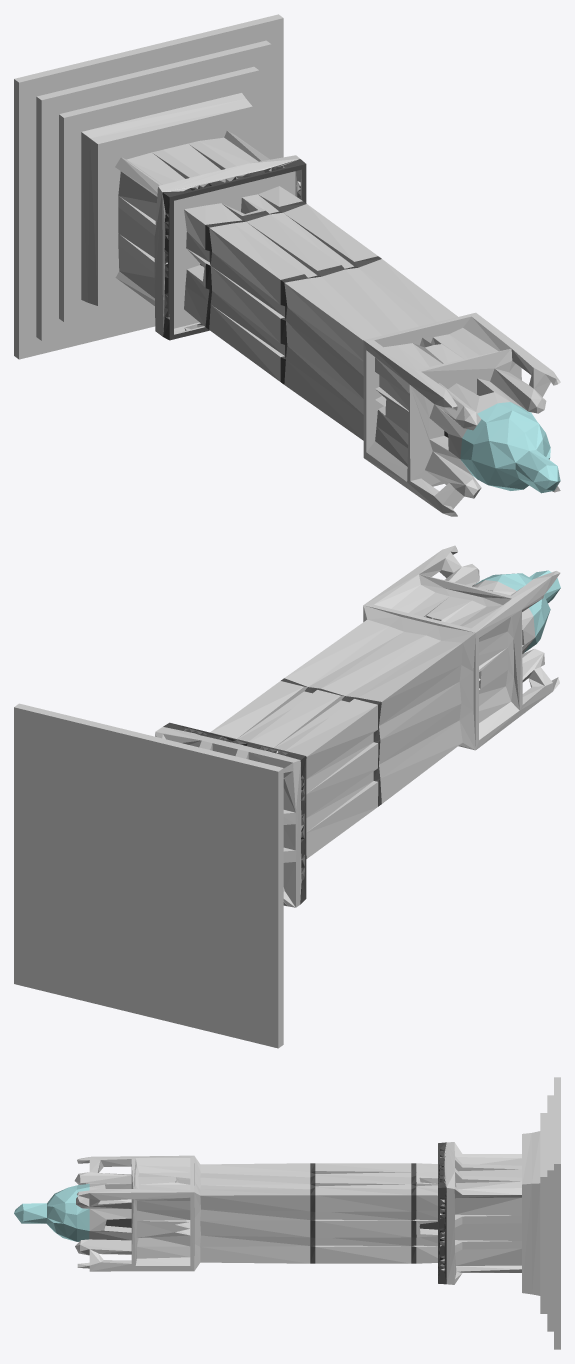
File: queensSmall.glb
3 views of the same model, one above another, from view 1: azimuth 30°, elevation 25°; view 2: azimuth 150°, elevation 25°; view 3: azimuth 270°, elevation 25° (orthographic). The views are drawn at different scales.
Parts seen in each view (by area): view 1: building.008; view 2: building.008; view 3: building.008.
Part boxes in pixels (x1,y1,x2,y2): building.008: [14, 14, 560, 516]; building.008: [14, 545, 560, 1048]; building.008: [14, 1077, 560, 1349].
Size of what is drawn, in the model's own units: 1.06 by 1.06 by 2.83.
